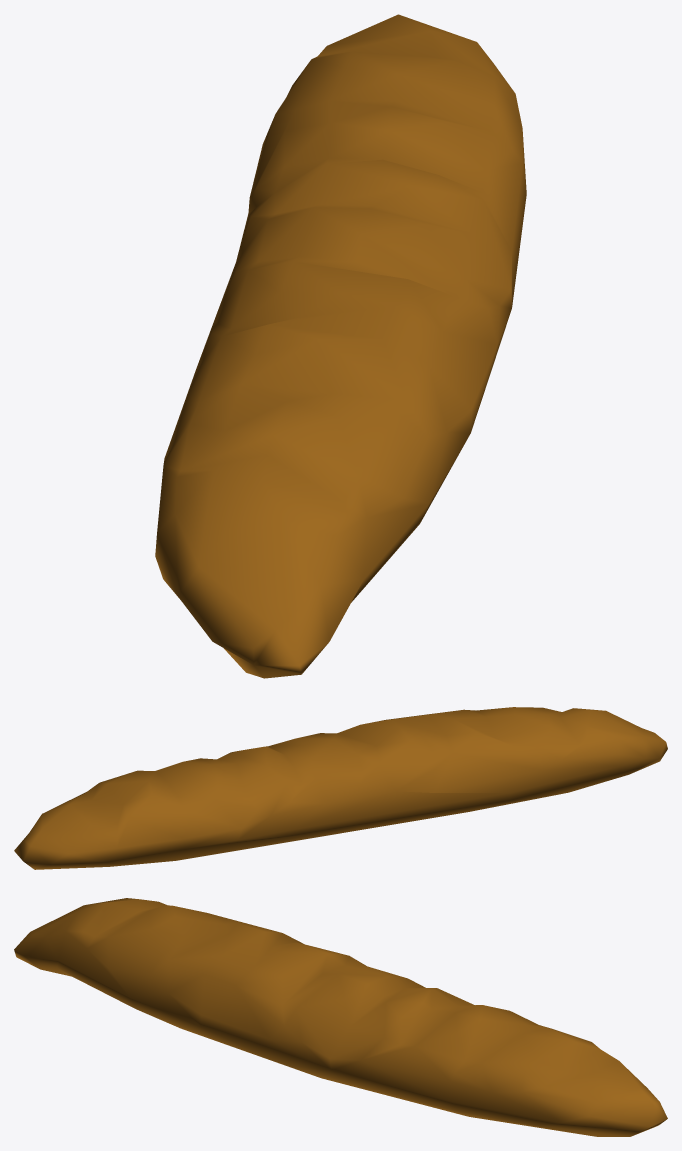
Rendered from Bread_LOD2.fbx.
3 renders of one model, top to bottom at view 1: azimuth 30°, elevation 25°; view 2: azimuth 150°, elevation 25°; view 3: azimuth 270°, elevation 25°, orthographic. The views are drawn at different scales.
Visible parts, largest first — view 1: Bread; view 2: Bread; view 3: Bread.
Part boxes in pixels (bbox=[...]): Bread: bbox=[155, 14, 526, 678]; Bread: bbox=[14, 707, 667, 869]; Bread: bbox=[14, 898, 667, 1136].
Bounding box in the file's own units: 63.93 × 13.57 × 84.94.
